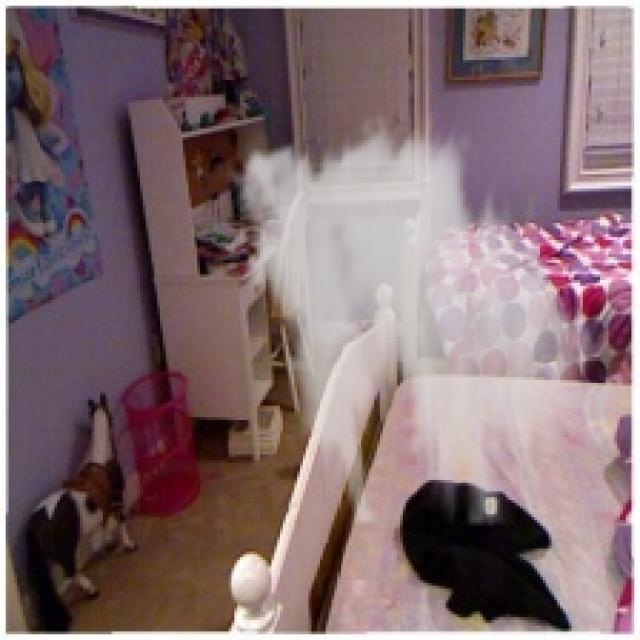Smoke: (217, 111, 606, 526)
